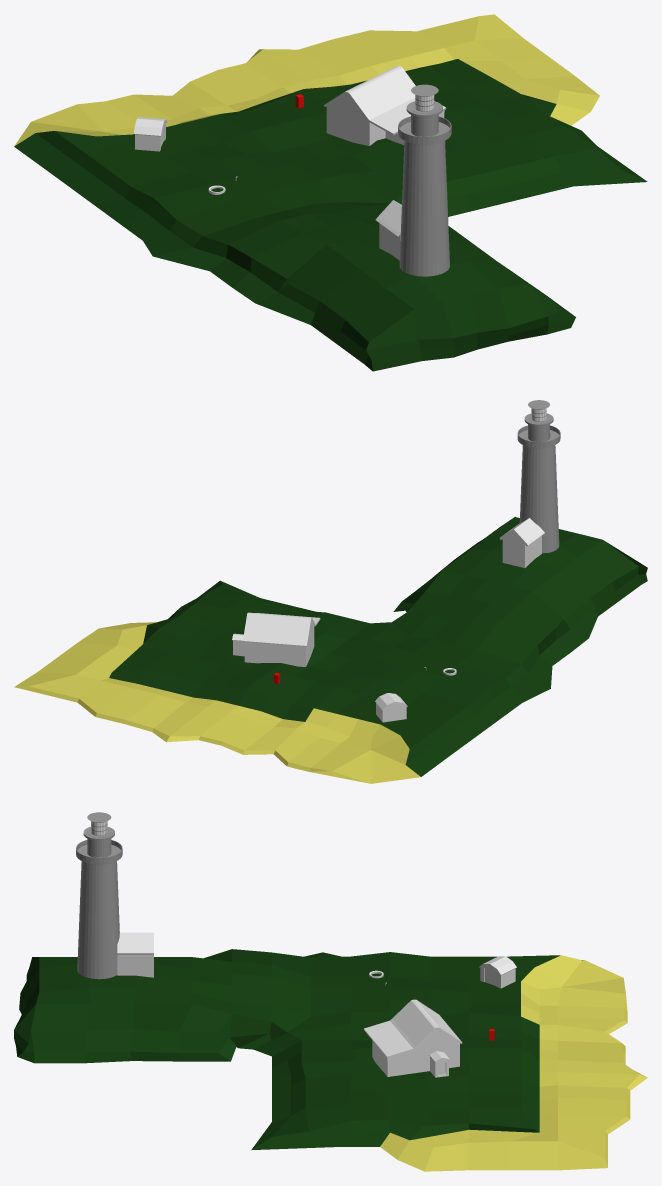
The model's file is island 1.fbx.
The picture shows the model from 3 angles, top to bottom: view 1: azimuth 30°, elevation 25°; view 2: azimuth 150°, elevation 25°; view 3: azimuth 270°, elevation 25°; orthographic projection. The views are drawn at different scales.
Parts seen in each view (by area): view 1: Plane, lighthouse, h.roof, h.main, Cube.001, s.roof; view 2: Plane, lighthouse, h.roof, Cube.001, h.main; view 3: Plane, lighthouse, h.roof, h.main, Cube.001, s.main.
Boxes of the visible parts, bbox=[...] form: Plane: bbox=[14, 14, 647, 371]; lighthouse: bbox=[398, 84, 451, 276]; h.roof: bbox=[323, 65, 446, 135]; h.main: bbox=[326, 94, 444, 145]; Cube.001: bbox=[375, 200, 401, 260]; s.roof: bbox=[133, 117, 167, 136]; Plane: bbox=[14, 517, 647, 783]; lighthouse: bbox=[517, 400, 560, 553]; h.roof: bbox=[243, 612, 320, 646]; Cube.001: bbox=[499, 518, 544, 567]; h.main: bbox=[244, 621, 314, 666]; Plane: bbox=[14, 949, 647, 1171]; lighthouse: bbox=[76, 812, 122, 979]; h.roof: bbox=[364, 999, 462, 1058]; h.main: bbox=[372, 1029, 459, 1076]; Cube.001: bbox=[117, 932, 153, 977]; s.main: bbox=[480, 965, 515, 988].
Size of the model in its own units: 9621 by 4207 by 12011.
Materials: 6 (1 with a texture image).
